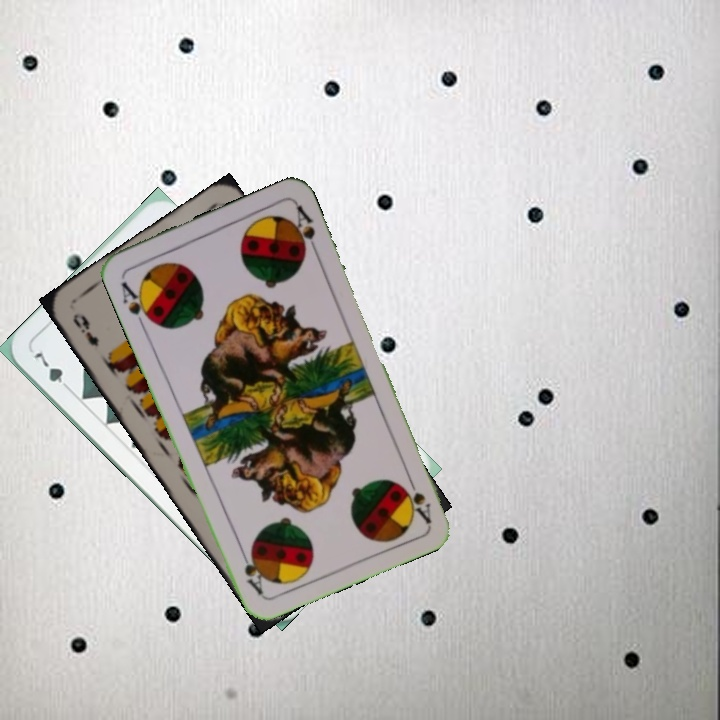E9: (68, 308, 102, 349)
G7: (29, 348, 74, 393)
SA: (117, 277, 157, 331), (399, 469, 434, 526)
